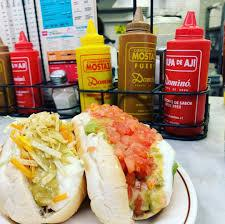Completos: (77, 103, 171, 224), (5, 108, 85, 224)
